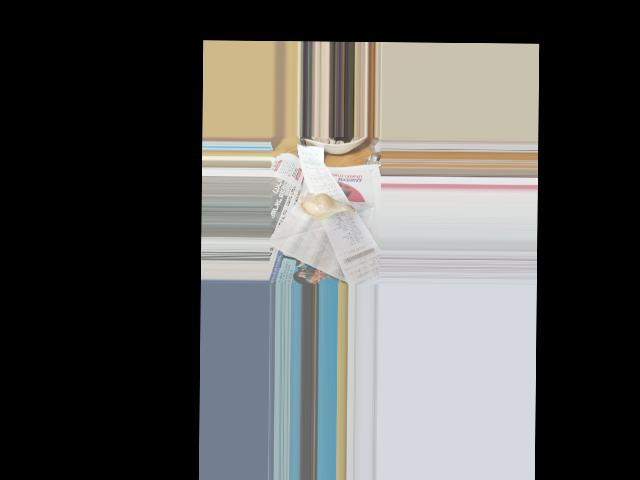onion: (300, 194, 339, 220)
